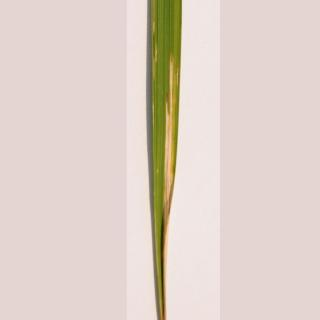Hawar-Daun: (155, 56, 185, 210), (140, 6, 166, 79)
